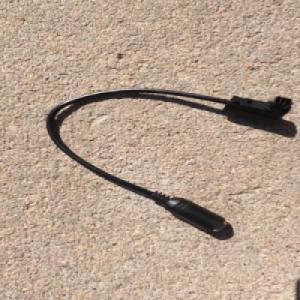Wire: (44, 86, 294, 232)
